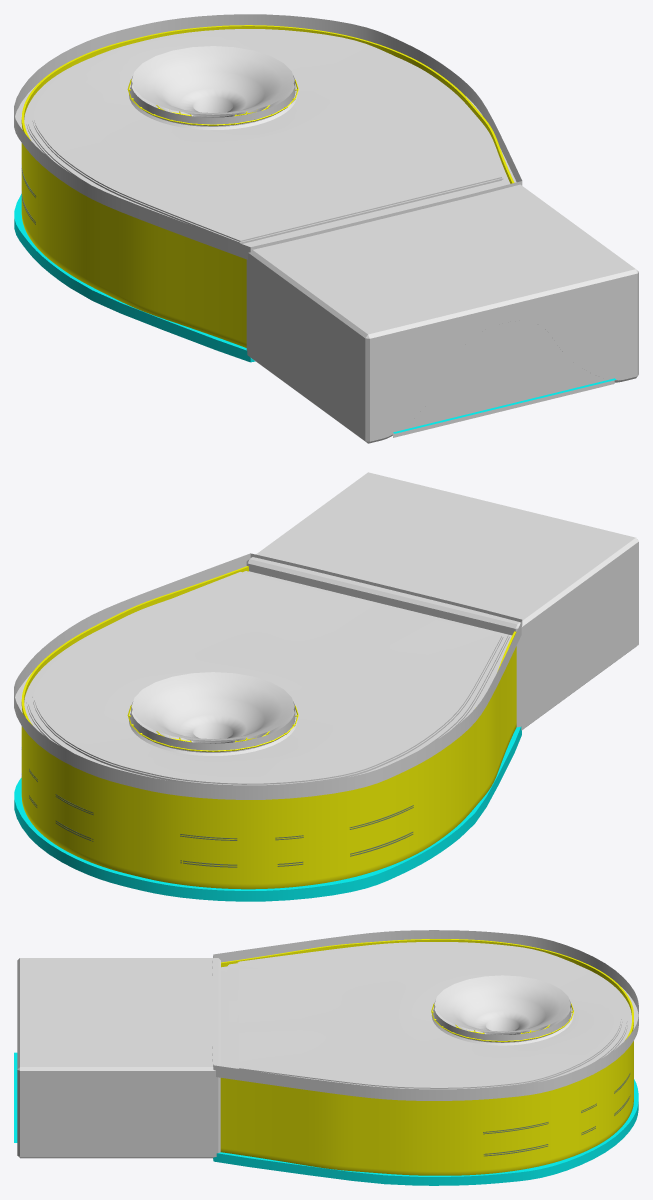
The model's file is Experiencia Video .fbx.
The picture shows the model from 3 angles, top to bottom: view 1: azimuth 30°, elevation 25°; view 2: azimuth 150°, elevation 25°; view 3: azimuth 270°, elevation 25°; orthographic projection. The views are drawn at different scales.
Visible parts, largest first — view 1: Cielo, Entrada, EXP5_ParedesVidrio.001, Pared Entrada, Cascada Agua Interior, Piso 2; view 2: Cielo, Entrada, EXP5_ParedesVidrio.001, Cascada Agua Interior, Piso 2, Segundo Piso, Tercer Piso; view 3: Cielo, Entrada, EXP5_ParedesVidrio.001, Cascada Agua Interior, Piso 2, cascada Vidrio.
Boxes of the visible parts, x1,y1,x2,y2 form: Cielo: (14, 14, 522, 259); Entrada: (246, 184, 638, 443); EXP5_ParedesVidrio.001: (21, 25, 514, 347); Pared Entrada: (393, 320, 614, 437); Cascada Agua Interior: (131, 46, 294, 117); Piso 2: (14, 194, 255, 362); Cielo: (14, 553, 522, 799); Entrada: (246, 472, 638, 730); EXP5_ParedesVidrio.001: (21, 566, 516, 889); Cascada Agua Interior: (131, 672, 294, 743); Piso 2: (14, 726, 521, 901); Segundo Piso: (21, 773, 413, 867); Tercer Piso: (21, 747, 413, 840); Cielo: (212, 930, 638, 1100); Entrada: (17, 958, 220, 1158); EXP5_ParedesVidrio.001: (220, 939, 633, 1175); Cascada Agua Interior: (434, 975, 570, 1034); Piso 2: (213, 1079, 638, 1185); cascada Vidrio: (431, 1003, 573, 1042).
Size of the model in its own units: 7092 by 2145 by 11745.
